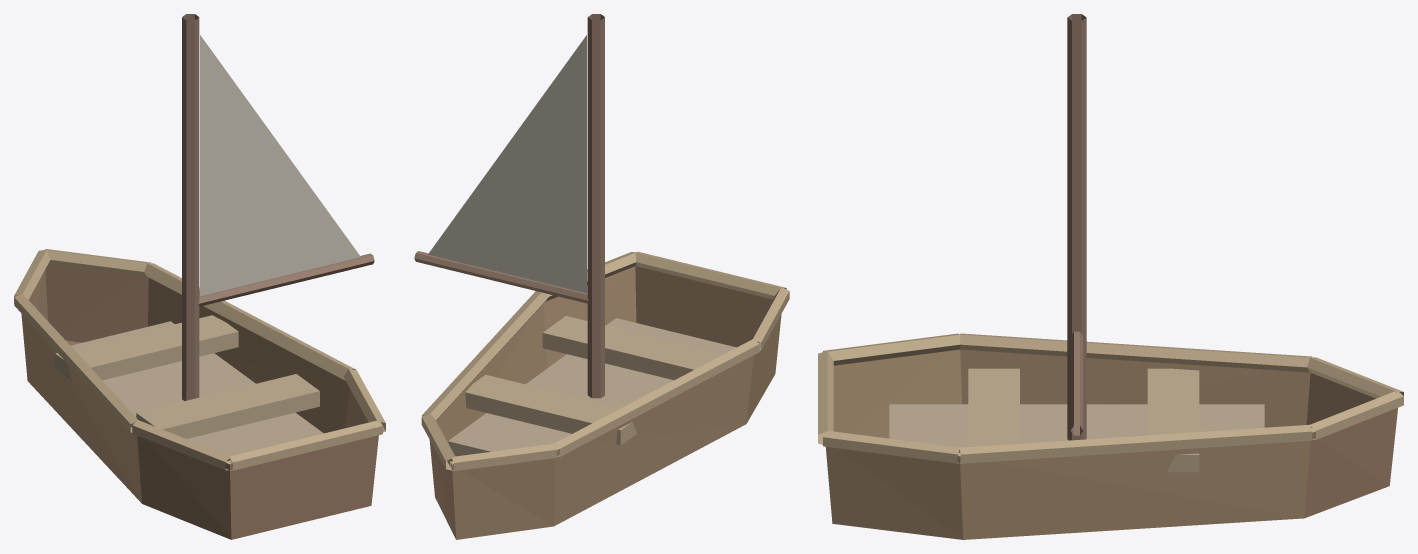
3 renders of one model, left to right at view 1: azimuth 30°, elevation 25°; view 2: azimuth 150°, elevation 25°; view 3: azimuth 270°, elevation 25°, orthographic. The views are drawn at different scales.
Parts seen in each view (by area): view 1: H06; view 2: H06; view 3: H06.
Boxes of the visible parts, left/top/right/bottom form: H06: left=14, top=14, right=385, bottom=539; H06: left=414, top=14, right=789, bottom=539; H06: left=818, top=14, right=1403, bottom=539.
Bounding box in the file's own units: 1.09 × 1.5 × 1.7.
